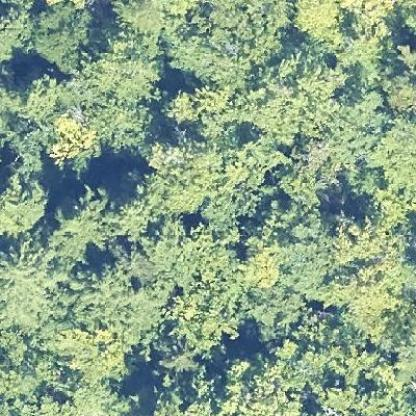tree-top: (140, 136, 272, 216), (217, 354, 313, 415), (30, 0, 95, 69), (0, 168, 51, 240), (289, 0, 346, 48)
